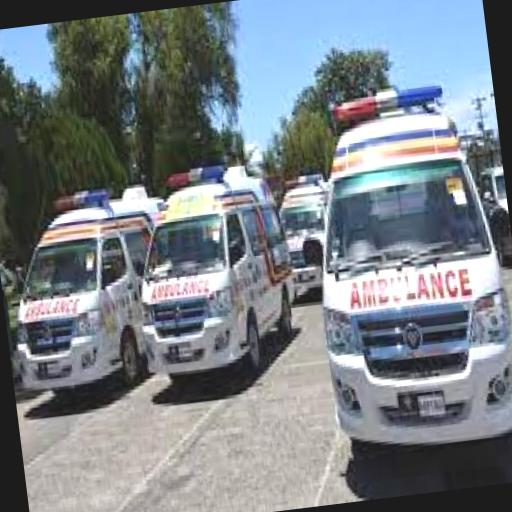Police car: (298, 76, 512, 479), (130, 154, 308, 397), (3, 183, 174, 408), (278, 168, 340, 305)
